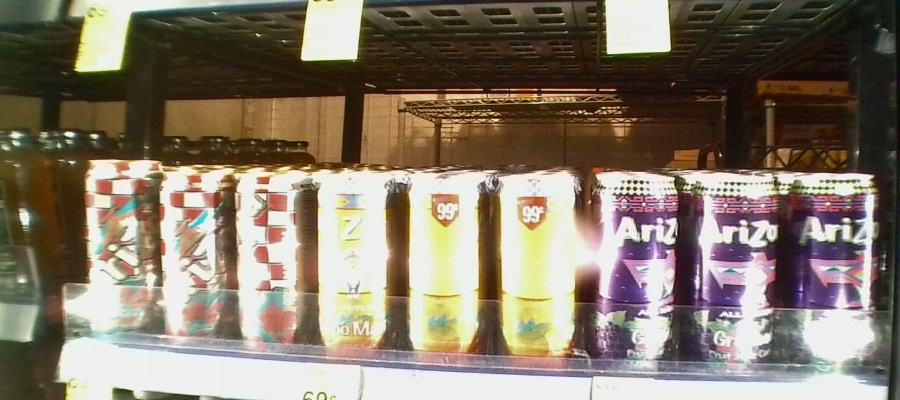bottle: (686, 167, 780, 376), (789, 167, 876, 376), (589, 170, 678, 374), (403, 159, 489, 368), (497, 162, 583, 365), (312, 161, 394, 353), (78, 150, 157, 339), (236, 161, 309, 353), (161, 158, 232, 345)
